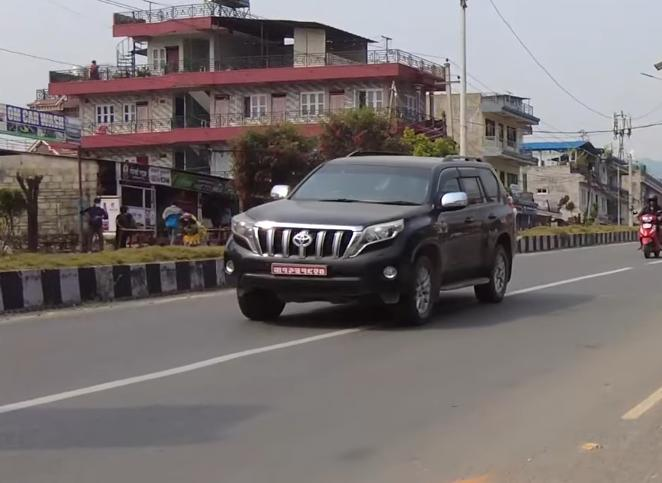SUV: (211, 145, 525, 335)
